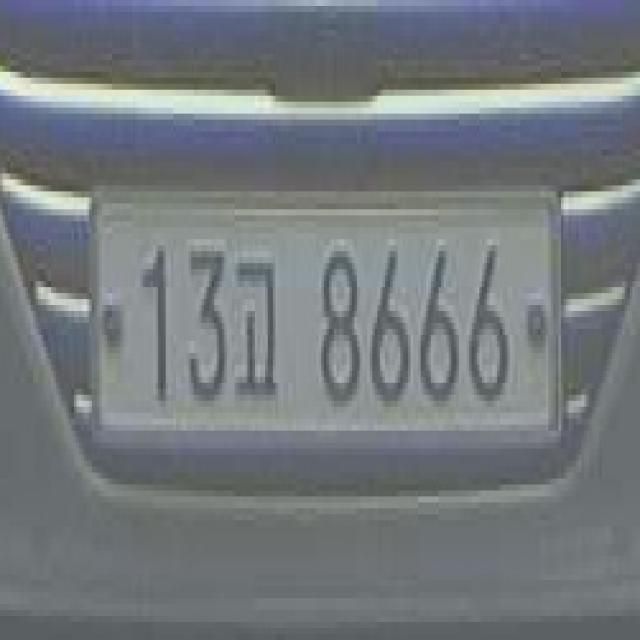1: (140, 227, 178, 419)
3: (181, 239, 232, 419)
6: (467, 227, 518, 413), (413, 245, 464, 419), (367, 245, 411, 419)
8: (316, 245, 362, 419)
go: (230, 233, 286, 413)
license_plate: (84, 173, 569, 472)
